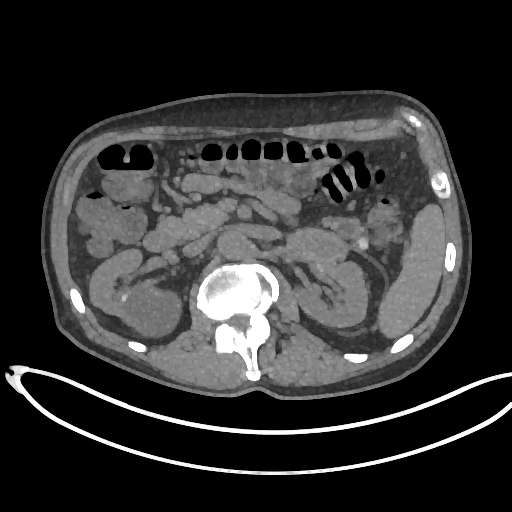Lesion: (282, 225, 348, 266)
